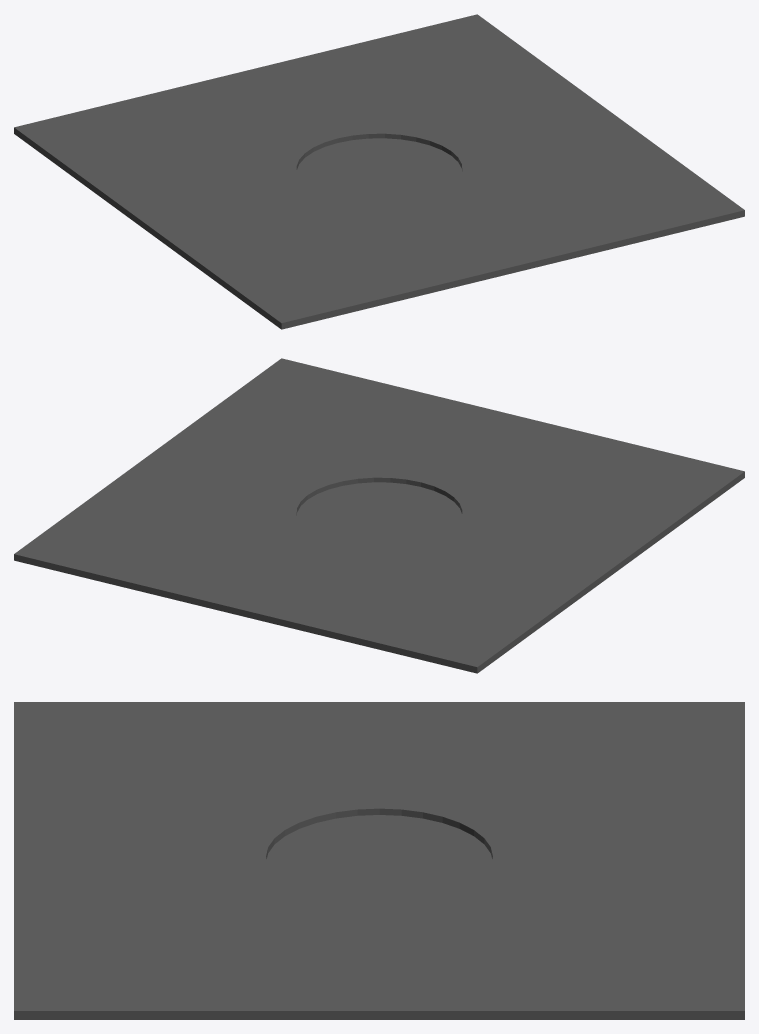
Rendered from SG 1 - Gray.glb.
3 views of the same model, one above another, from view 1: azimuth 30°, elevation 25°; view 2: azimuth 150°, elevation 25°; view 3: azimuth 270°, elevation 25° (orthographic). The views are drawn at different scales.
Parts seen in each view (by area): view 1: SG-1-Foundation; view 2: SG-1-Foundation; view 3: SG-1-Foundation.
Part boxes in pixels (box(x1,y1,x2,y2)): SG-1-Foundation: box(14, 14, 744, 329); SG-1-Foundation: box(14, 358, 744, 673); SG-1-Foundation: box(14, 702, 744, 1019).
Size of what is drawn, in the model's own units: 15 by 0.2 by 15.
1 material, 1 textured.
